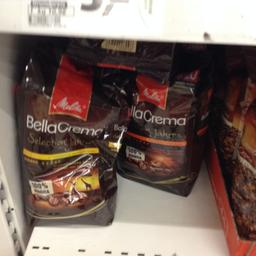coffee: (14, 47, 118, 225), (124, 70, 204, 198)
